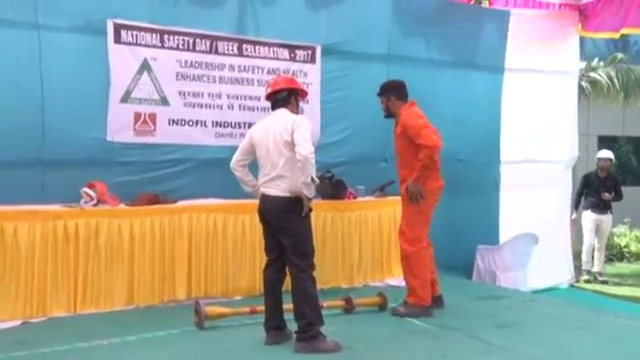helmet: (264, 72, 309, 99), (596, 147, 615, 162)
helmet_off: (377, 77, 408, 119)
helmet_on: (262, 71, 308, 116), (591, 148, 615, 176)
person: (231, 71, 344, 353), (375, 73, 445, 318), (575, 147, 625, 288)
